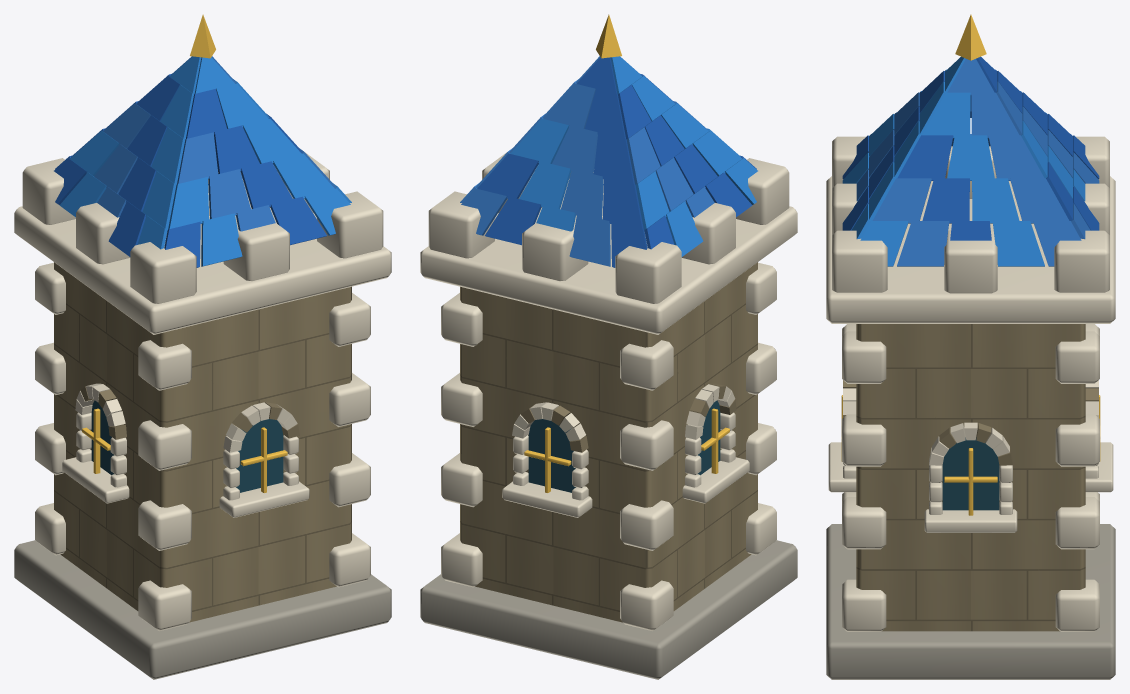
Rendered from capital-v2-tower.glb.
3 views of the same model, side by side, from view 1: azimuth 30°, elevation 25°; view 2: azimuth 150°, elevation 25°; view 3: azimuth 270°, elevation 25° (orthographic). The views are drawn at different scales.
Parts seen in each view (by area): view 1: module_tower__tower_shaft, module_tower__tower_foot, module_tower__tower_cornice, module_tower__tower_battlement, module_tower__tower_battlement.004, module_tower__tower_battlement.002, module_tower__tower_battlement.001, module_tower__tower_window__recessed_glass, module_tower__corner_quoin.004, module_tower__corner_quoin.012, module_tower__corner_quoin.008, module_tower__corner_quoin (+42 smaller); view 2: module_tower__tower_shaft, module_tower__tower_foot, module_tower__tower_cornice, module_tower__tower_battlement.001, module_tower__tower_battlement.005, module_tower__tower_battlement.003, module_tower__tower_battlement, module_tower__tower_window__recessed_glass.002, module_tower__corner_quoin.006, module_tower__corner_quoin.014, module_tower__corner_quoin.010, module_tower__corner_quoin.002 (+42 smaller); view 3: module_tower__tower_shaft, module_tower__tower_foot, module_tower__tower_cornice, module_tower__tower_window__recessed_glass.001, module_tower__tower_battlement.005, module_tower__tower_battlement.004, module_tower__tower_side_merlon.001, module_tower__corner_quoin.005, module_tower__corner_quoin.007, module_tower__corner_quoin.009, module_tower__corner_quoin.011, module_tower__corner_quoin.013 (+44 smaller).
Part boxes in pixels (left/top/right/bottom): module_tower__tower_shaft: left=54, top=262, right=351, bottom=622; module_tower__tower_foot: left=14, top=540, right=391, bottom=679; module_tower__tower_cornice: left=14, top=172, right=391, bottom=334; module_tower__tower_battlement: left=130, top=239, right=196, bottom=303; module_tower__tower_battlement.004: left=317, top=191, right=383, bottom=258; module_tower__tower_battlement.002: left=223, top=220, right=289, bottom=280; module_tower__tower_battlement.001: left=22, top=158, right=75, bottom=224; module_tower__tower_window__recessed_glass: left=236, top=419, right=283, bottom=492; module_tower__corner_quoin.004: left=138, top=500, right=191, bottom=550; module_tower__corner_quoin.012: left=138, top=340, right=191, bottom=390; module_tower__corner_quoin.008: left=138, top=420, right=191, bottom=470; module_tower__corner_quoin: left=138, top=580, right=191, bottom=630; module_tower__tower_shaft: left=460, top=262, right=757, bottom=622; module_tower__tower_foot: left=420, top=540, right=797, bottom=679; module_tower__tower_cornice: left=420, top=172, right=797, bottom=334; module_tower__tower_battlement.001: left=615, top=239, right=681, bottom=303; module_tower__tower_battlement.005: left=428, top=191, right=494, bottom=258; module_tower__tower_battlement.003: left=522, top=220, right=588, bottom=280; module_tower__tower_battlement: left=736, top=158, right=789, bottom=224; module_tower__tower_window__recessed_glass.002: left=528, top=419, right=575, bottom=492; module_tower__corner_quoin.006: left=620, top=500, right=673, bottom=550; module_tower__corner_quoin.014: left=620, top=340, right=673, bottom=390; module_tower__corner_quoin.010: left=620, top=420, right=673, bottom=470; module_tower__corner_quoin.002: left=620, top=580, right=673, bottom=630; module_tower__tower_shaft: left=856, top=324, right=1085, bottom=631; module_tower__tower_foot: left=826, top=524, right=1115, bottom=679; module_tower__tower_cornice: left=826, top=176, right=1115, bottom=323; module_tower__tower_window__recessed_glass.001: left=942, top=437, right=999, bottom=510; module_tower__tower_battlement.005: left=1054, top=230, right=1109, bottom=292; module_tower__tower_battlement.004: left=832, top=230, right=887, bottom=292; module_tower__tower_side_merlon.001: left=944, top=230, right=997, bottom=293; module_tower__corner_quoin.005: left=842, top=497, right=886, bottom=549; module_tower__corner_quoin.007: left=1055, top=497, right=1099, bottom=549; module_tower__corner_quoin.009: left=842, top=414, right=886, bottom=466; module_tower__corner_quoin.011: left=1055, top=414, right=1099, bottom=466; module_tower__corner_quoin.013: left=842, top=331, right=886, bottom=383.
Bounding box in the file's own units: 0.13 × 0.301 × 0.13.
Materials: 8 (1 with a texture image).
